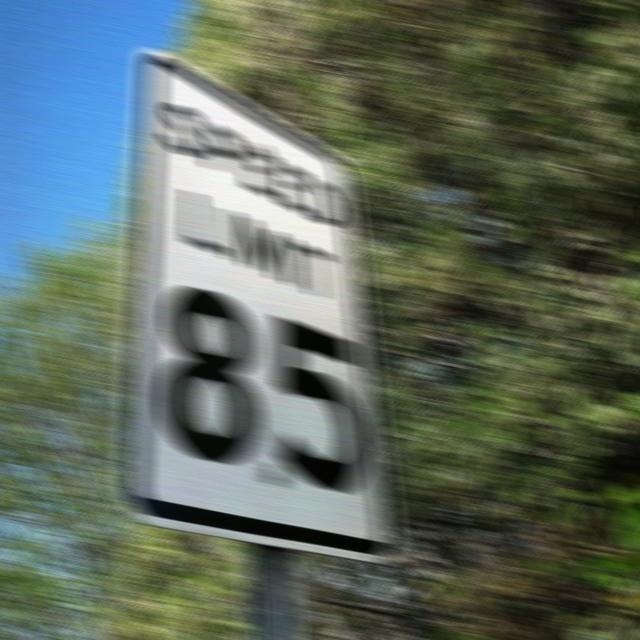speedLimit85: (120, 67, 404, 537)
